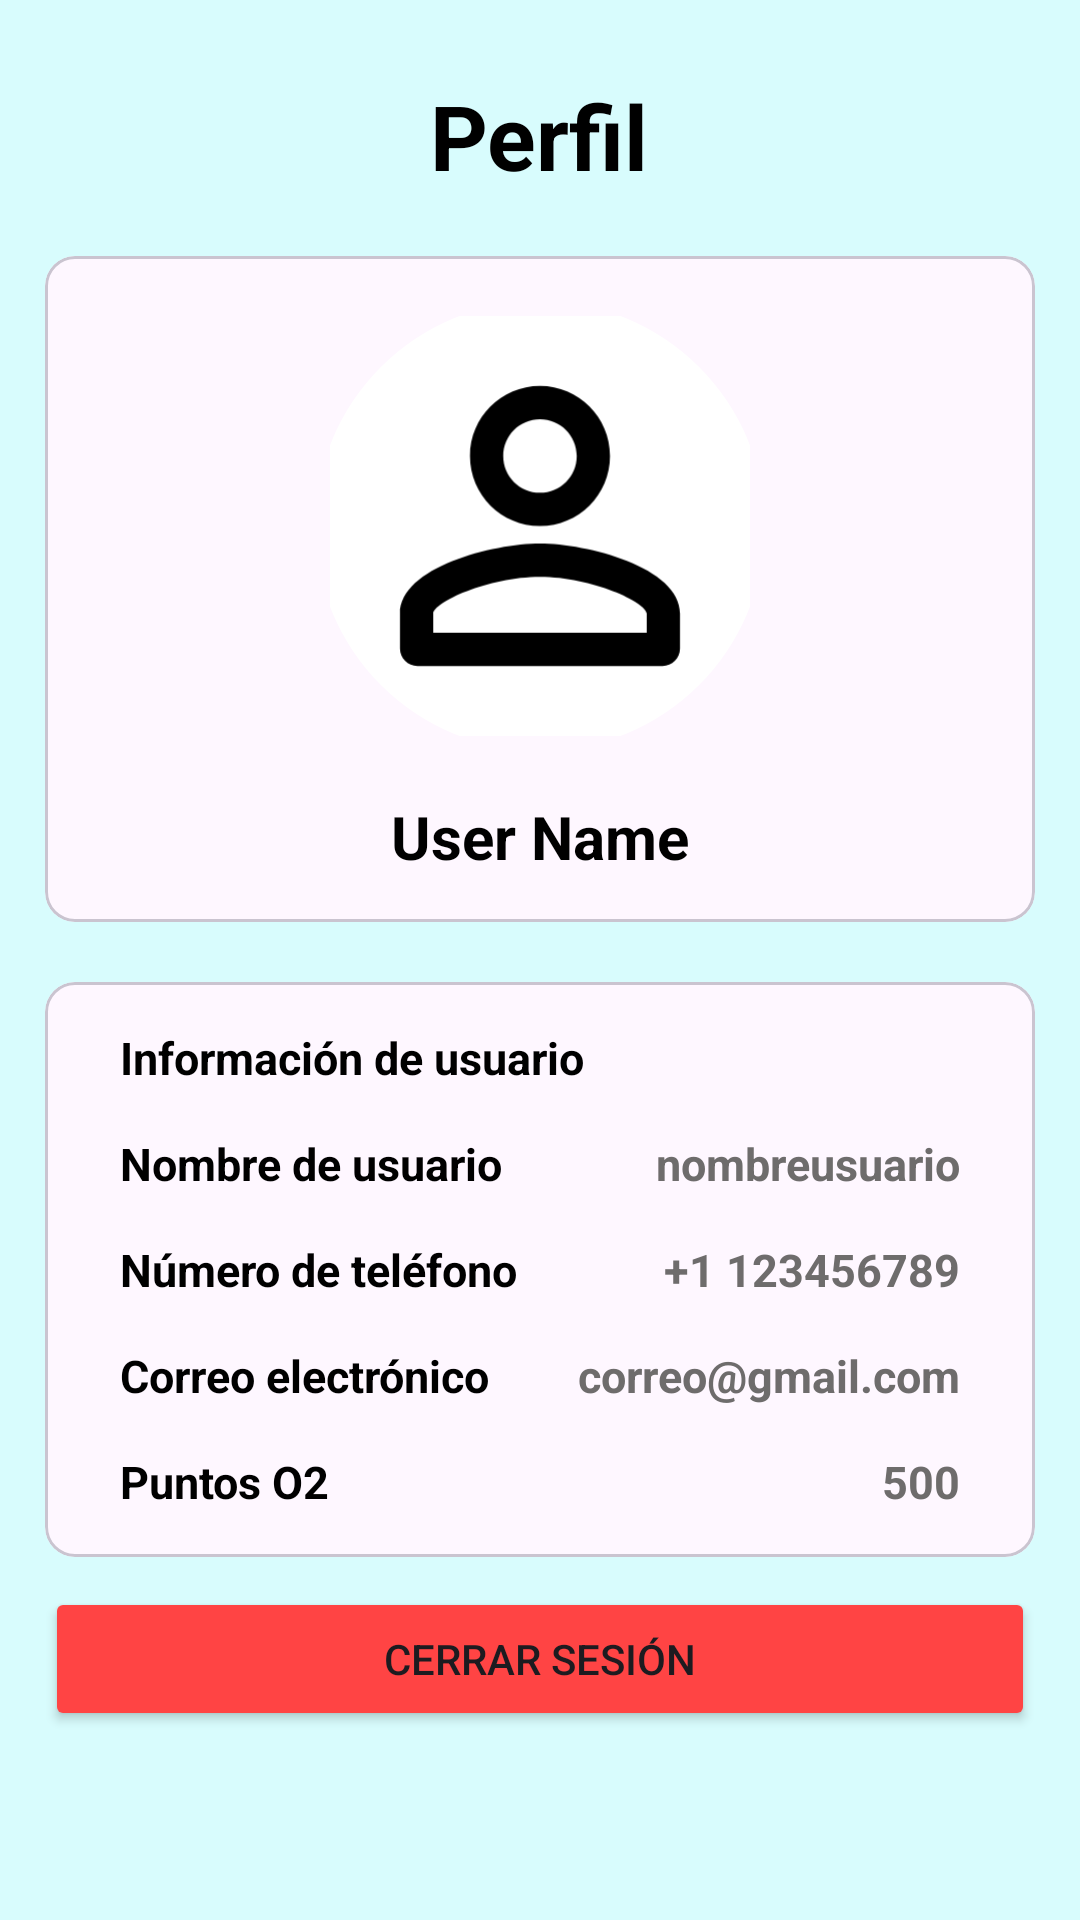

Named icons in this screenshot (1080x1920) and their bounding boxes, [left=x1, top=y1, right=x2, bottom=y2]:
profile: [left=399, top=385, right=681, bottom=667]
